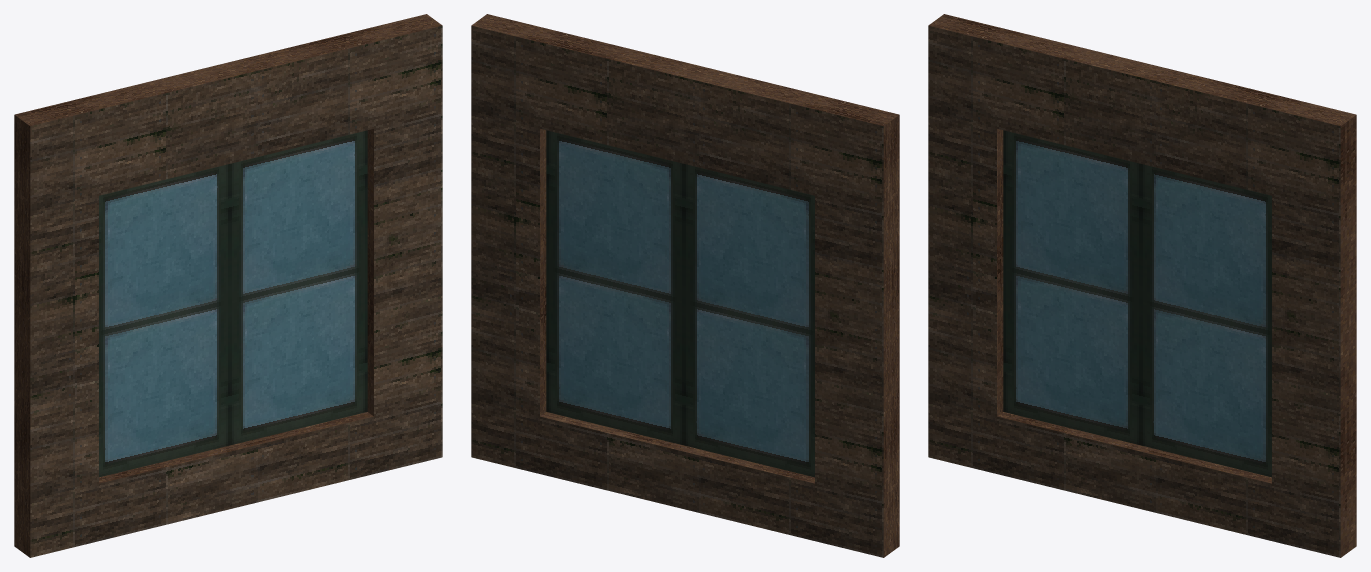
Rendered from window_double_02.glb.
The picture shows the model from 3 angles, left to right: view 1: azimuth 30°, elevation 25°; view 2: azimuth 150°, elevation 25°; view 3: azimuth 330°, elevation 25°; orthographic projection.
Visible parts, largest first — view 1: window_double_022, window_02_002, window_02_001; view 2: window_double_022, window_02_002, window_02_001; view 3: window_double_022, window_02_001, window_02_002.
Part boxes in pixels (<box>): window_double_022: <box>14,14,442,557</box>; window_02_002: <box>230,130,367,445</box>; window_02_001: <box>99,164,229,477</box>; window_double_022: <box>471,14,899,557</box>; window_02_002: <box>546,130,683,445</box>; window_02_001: <box>684,164,814,477</box>; window_double_022: <box>928,14,1356,557</box>; window_02_001: <box>1003,130,1140,445</box>; window_02_002: <box>1141,164,1271,477</box>.
Size of the model in its own units: 3 by 3 by 0.2.
Materials: 3 (3 with a texture image).
